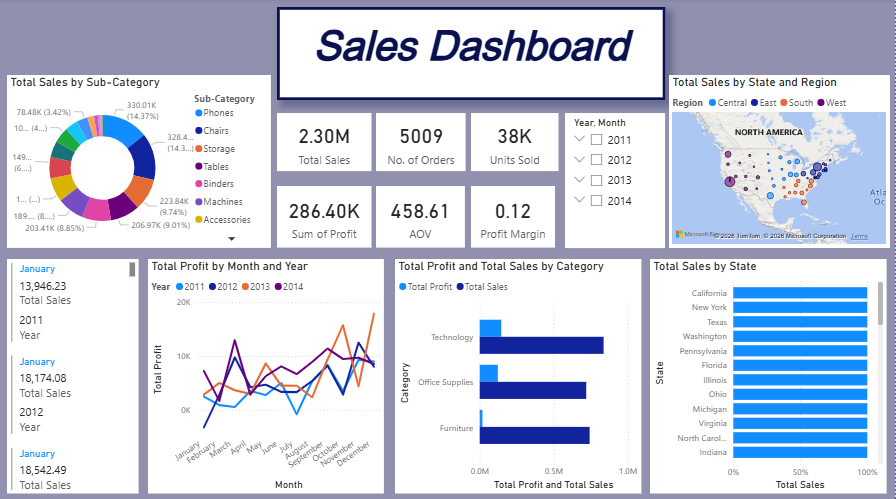

Layout of this report page (visuals, bound fields, positions):
{"tool":"powerbi","page":{"name":"Page 1","canvas":[1280,720],"ordinal":0},"visuals":[{"type":"card","fields":{"Values":["FutureInterns_DS_01.Total Sales"]},"box":[396.7,166.7,135,83.3],"z":0},{"type":"card","fields":{"Values":["Sum(FutureInterns_DS_01.Profit)"]},"box":[396.7,271.7,135,88.3],"z":1000},{"type":"card","fields":{"Values":["FutureInterns_DS_01.Profit Margin"]},"box":[675,271.7,120,88.3],"z":2000},{"type":"card","fields":{"Values":["FutureInterns_DS_01.Units Sold"]},"box":[675,166.7,125,83.3],"z":3000},{"type":"card","fields":{"Values":["FutureInterns_DS_01.No. of Orders"]},"box":[538.3,166.7,128.3,83.3],"z":4000},{"type":"card","fields":{"Values":["FutureInterns_DS_01.AOV"]},"box":[538.3,271.7,126.7,88.3],"z":5000},{"type":"lineChart","fields":{"Category":["FutureInterns_DS_01.Order Date.Variation.Date Hierarchy.Month"],"Y":["FutureInterns_DS_01.Total Profit"],"Series":["FutureInterns_DS_01.Order Date.Variation.Date Hierarchy.Year"]},"box":[213.3,375,336.7,335],"z":6000},{"type":"clusteredBarChart","fields":{"Y":["FutureInterns_DS_01.Total Profit","FutureInterns_DS_01.Total Sales"],"Category":["FutureInterns_DS_01.Category"]},"box":[565,375,351.7,335],"z":7000},{"type":"multiRowCard","fields":{"Values":["FutureInterns_DS_01.Order Date.Variation.Date Hierarchy.Month","FutureInterns_DS_01.Total Sales","FutureInterns_DS_01.Order Date.Variation.Date Hierarchy.Year"]},"box":[11.7,375,188.3,335],"z":8000},{"type":"donutChart","fields":{"Y":["FutureInterns_DS_01.Total Sales"],"Category":["FutureInterns_DS_01.Sub-Category"]},"box":[11.7,113.3,376.7,246.7],"z":9000},{"type":"slicer","fields":{"Values":["FutureInterns_DS_01.Order Date.Variation.Date Hierarchy.Year","FutureInterns_DS_01.Order Date.Variation.Date Hierarchy.Month"]},"box":[808.3,166.7,143.3,193.3],"z":10000},{"type":"textbox","box":[396.7,15,555,133.3],"z":12000},{"type":"hundredPercentStackedBarChart","fields":{"Y":["FutureInterns_DS_01.Total Sales"],"Category":["FutureInterns_DS_01.State"]},"box":[930,375,338.3,335],"z":13000},{"type":"map","fields":{"Size":["FutureInterns_DS_01.Total Sales"],"Series":["FutureInterns_DS_01.Region"],"Category":["FutureInterns_DS_01.State"]},"box":[957.1,112.7,314.6,247.3],"z":13001}]}

Visuals, with their boxes in screenshot pixels (x1, y1, x2, y2), scaled from the page's 1280x720 canvas onto the 896x499 screenshot:
card - FutureInterns_DS_01.Total Sales: bbox=[278, 116, 372, 173]
card - Sum(FutureInterns_DS_01.Profit): bbox=[278, 188, 372, 250]
card - FutureInterns_DS_01.Profit Margin: bbox=[472, 188, 556, 250]
card - FutureInterns_DS_01.Units Sold: bbox=[472, 116, 560, 173]
card - FutureInterns_DS_01.No. of Orders: bbox=[377, 116, 467, 173]
card - FutureInterns_DS_01.AOV: bbox=[377, 188, 465, 250]
lineChart - FutureInterns_DS_01.Order Date.Variation.Date Hierarchy.Month x FutureInterns_DS_01.Total Profit: bbox=[149, 260, 385, 492]
clusteredBarChart - FutureInterns_DS_01.Total Profit x FutureInterns_DS_01.Total Sales: bbox=[396, 260, 642, 492]
multiRowCard - FutureInterns_DS_01.Order Date.Variation.Date Hierarchy.Month x FutureInterns_DS_01.Total Sales: bbox=[8, 260, 140, 492]
donutChart - FutureInterns_DS_01.Total Sales x FutureInterns_DS_01.Sub-Category: bbox=[8, 79, 272, 250]
slicer - FutureInterns_DS_01.Order Date.Variation.Date Hierarchy.Year x FutureInterns_DS_01.Order Date.Variation.Date Hierarchy.Month: bbox=[566, 116, 666, 250]
textbox: bbox=[278, 10, 666, 103]
hundredPercentStackedBarChart - FutureInterns_DS_01.Total Sales x FutureInterns_DS_01.State: bbox=[651, 260, 888, 492]
map - FutureInterns_DS_01.Total Sales x FutureInterns_DS_01.Region: bbox=[670, 78, 890, 250]
